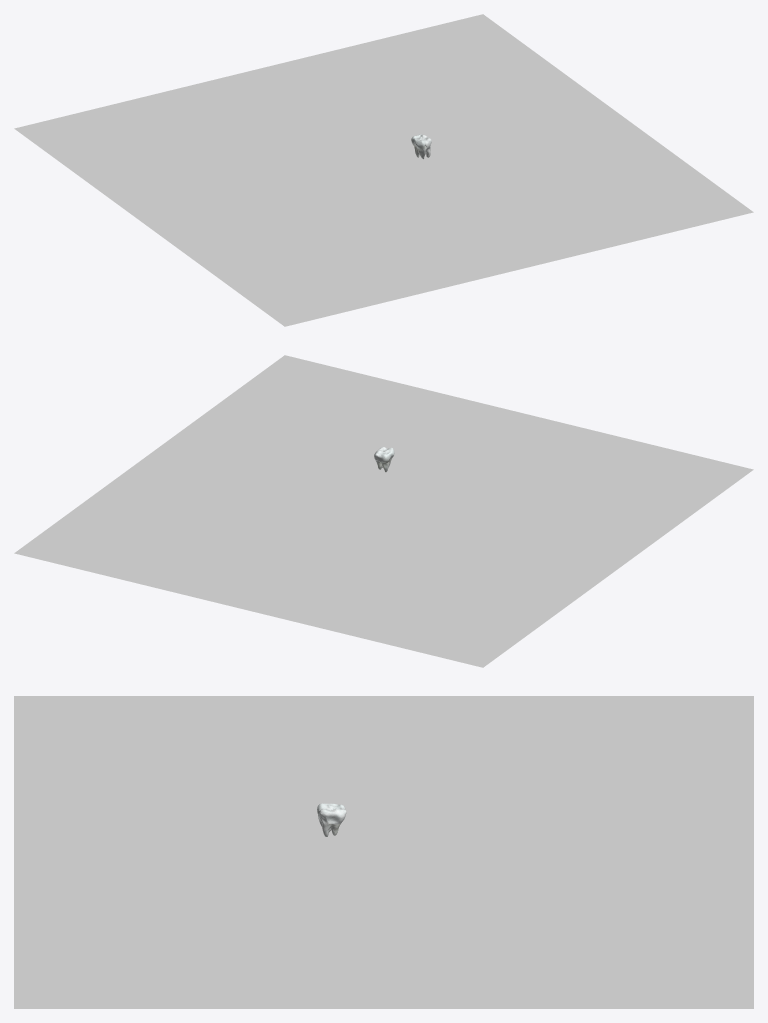
File: tooth.obj
3 renders of one model, top to bottom at view 1: azimuth 30°, elevation 25°; view 2: azimuth 150°, elevation 25°; view 3: azimuth 270°, elevation 25°, orthographic. The views are drawn at different scales.
Size of the model in its own units: 0.8737 by 0.0768 by 0.8737.
